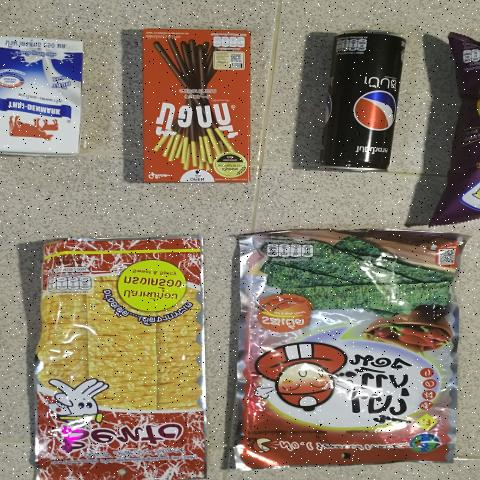bento_red: (30, 233, 210, 474)
pepsi_black: (320, 27, 404, 174)
pokki: (144, 27, 252, 185)
taokaenoi: (238, 250, 458, 470)
thai_denmark: (0, 34, 88, 156)
